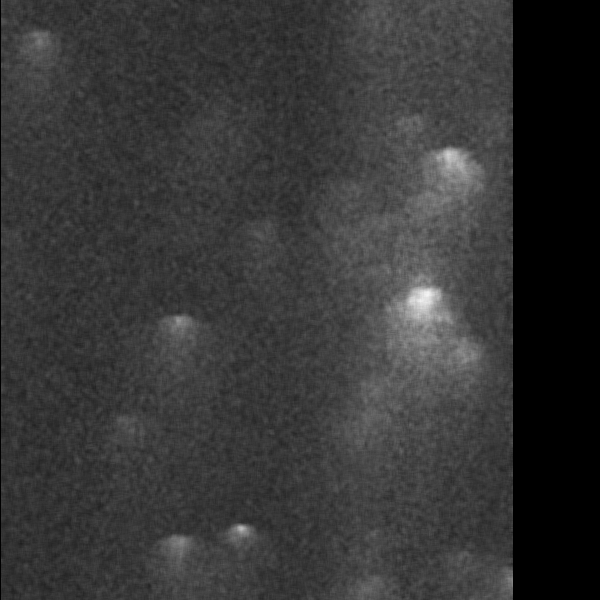spark: (93, 124, 181, 193), (24, 568, 116, 600), (5, 416, 42, 486), (15, 314, 85, 349), (1, 124, 38, 171), (405, 427, 453, 461), (14, 250, 58, 285)
